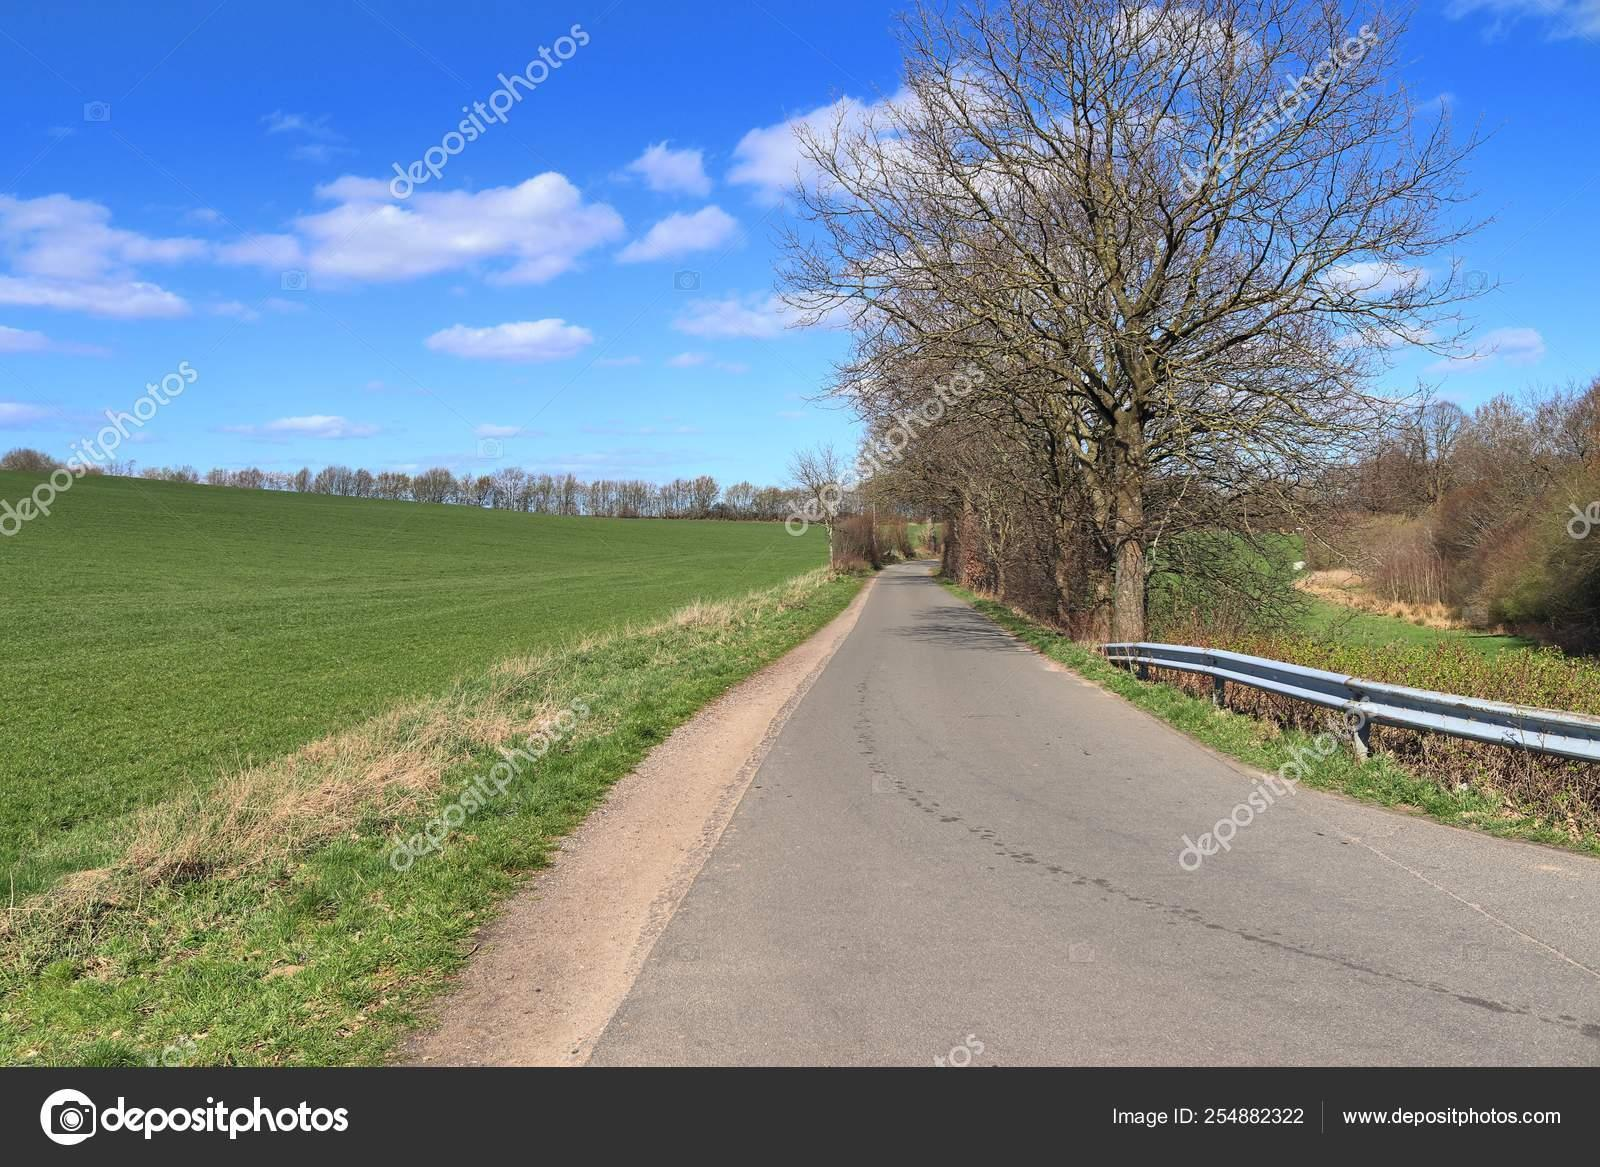watersign: (385, 17, 598, 214), (1168, 689, 1379, 879), (0, 357, 205, 547), (784, 355, 991, 537), (390, 702, 595, 879), (70, 93, 119, 133), (665, 263, 709, 295)
